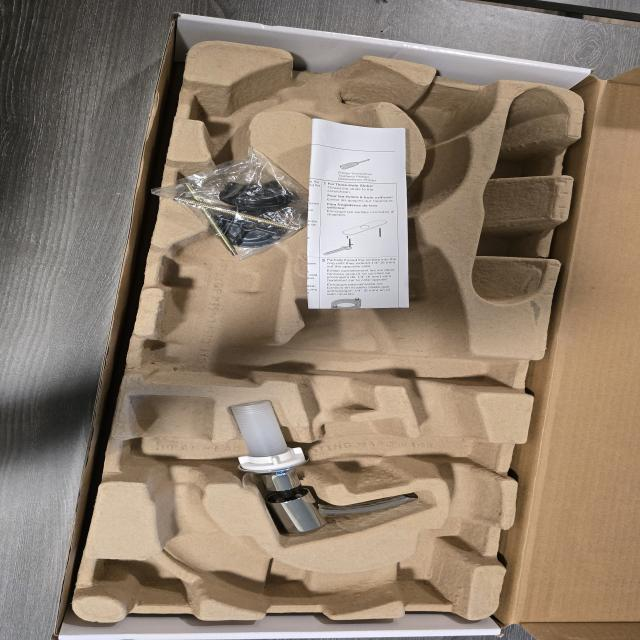1m: (129, 49, 498, 612)
2: (230, 401, 420, 534)
3m: (140, 205, 288, 384)
4m: (473, 87, 572, 303)
5m: (417, 95, 478, 137)
6m: (186, 79, 290, 145)
7o: (150, 147, 334, 259)
8: (308, 119, 411, 310)
